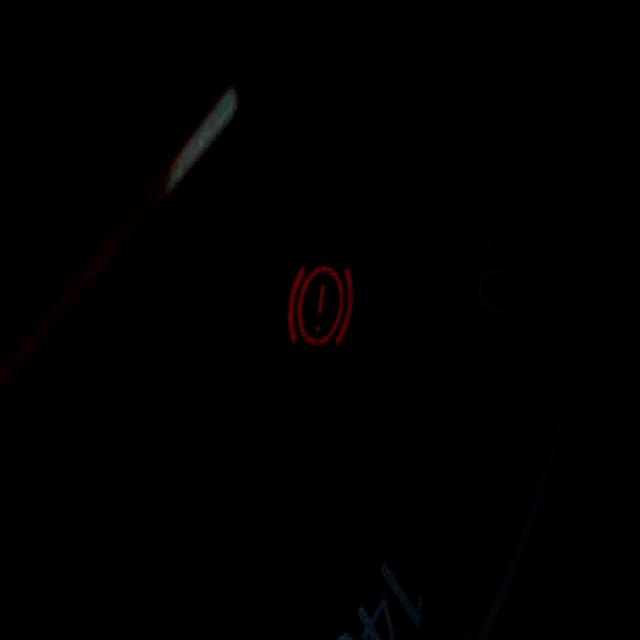kontrolka: (267, 234, 378, 373)
